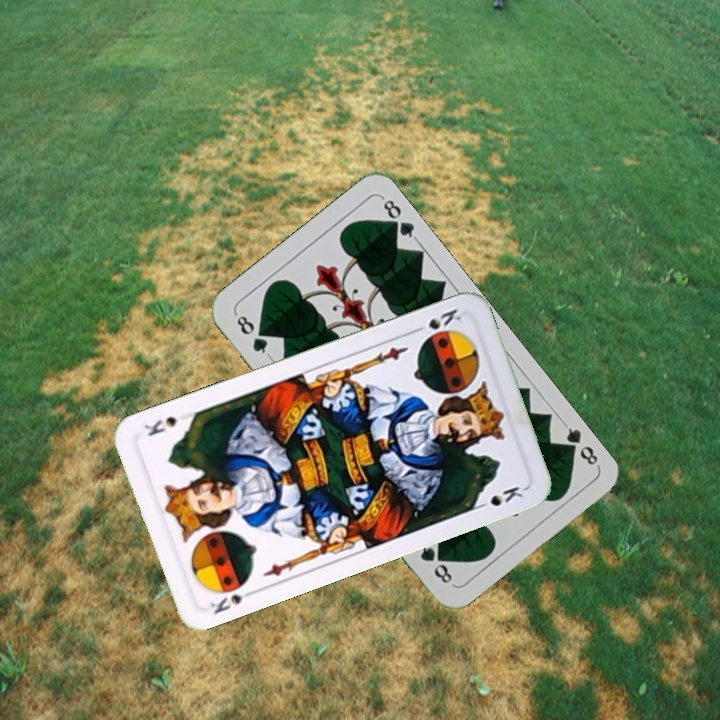G8: (557, 419, 602, 469), (231, 310, 273, 359)
SK: (408, 304, 464, 336), (206, 585, 259, 617)
